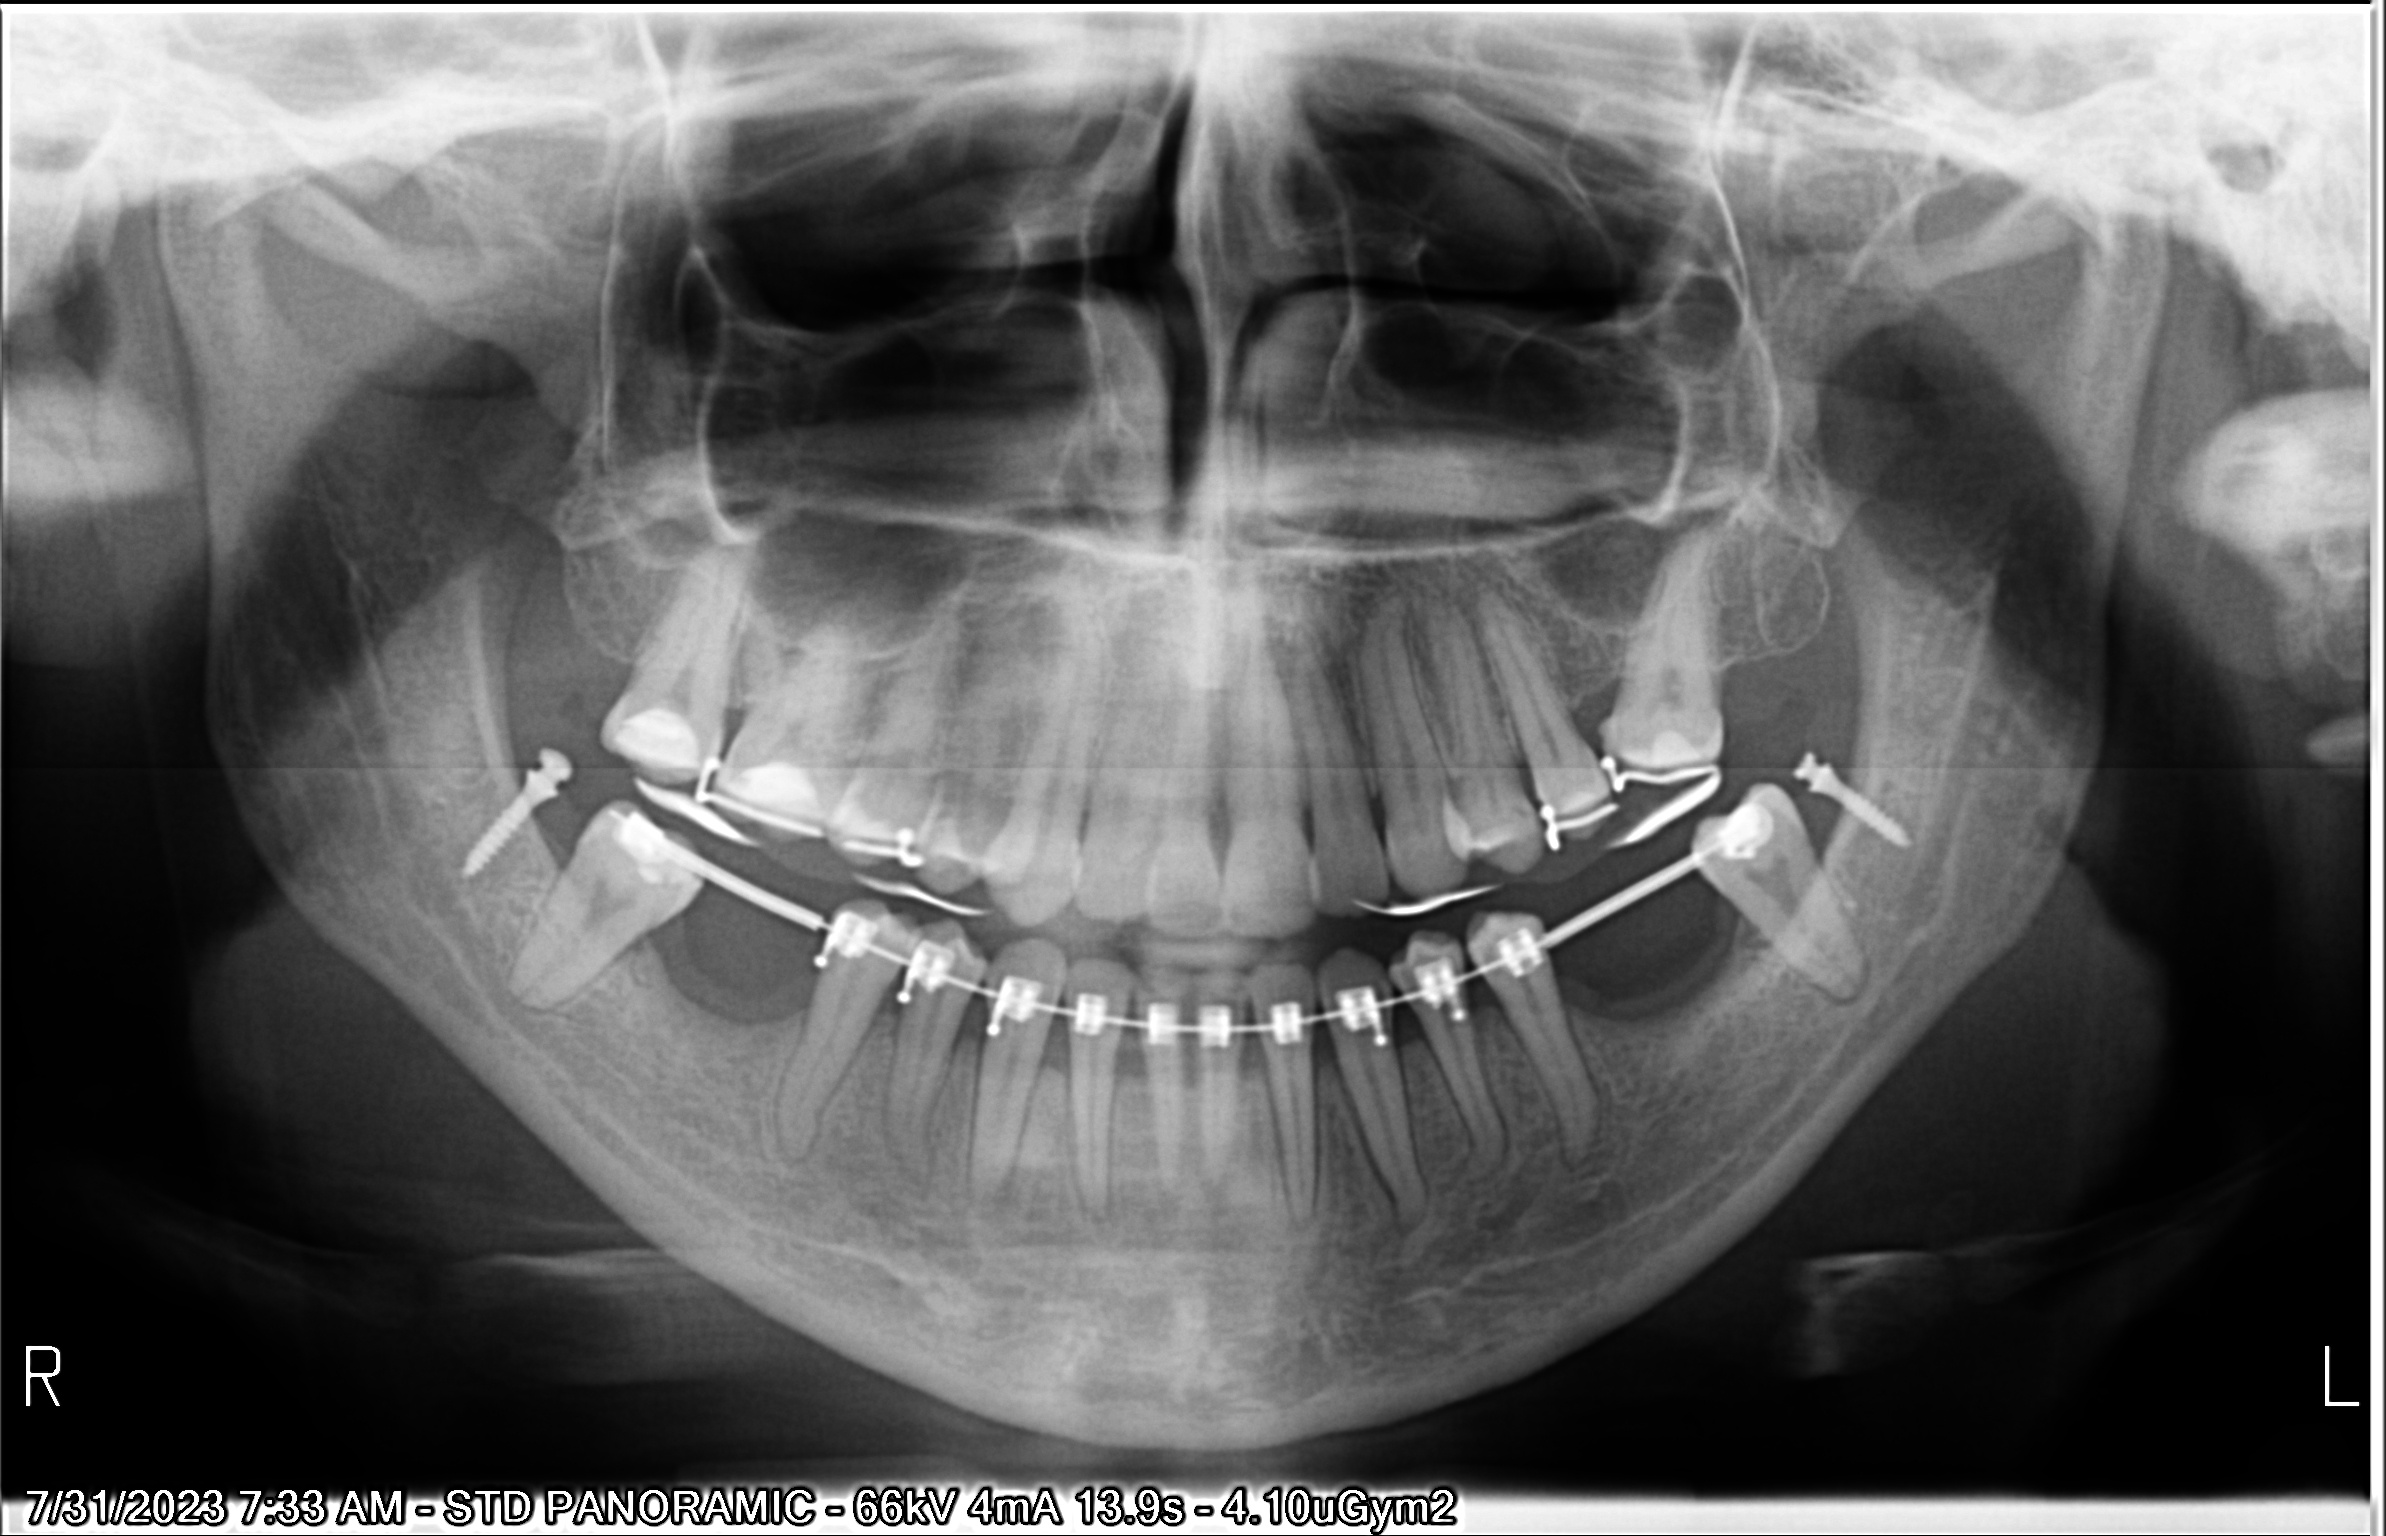OBT: (616, 703, 710, 795), (741, 758, 833, 807), (854, 798, 910, 875), (1447, 795, 1492, 861)
ORD: (595, 840, 1800, 1049), (680, 725, 1718, 905), (1786, 738, 1939, 878), (477, 713, 565, 884)
